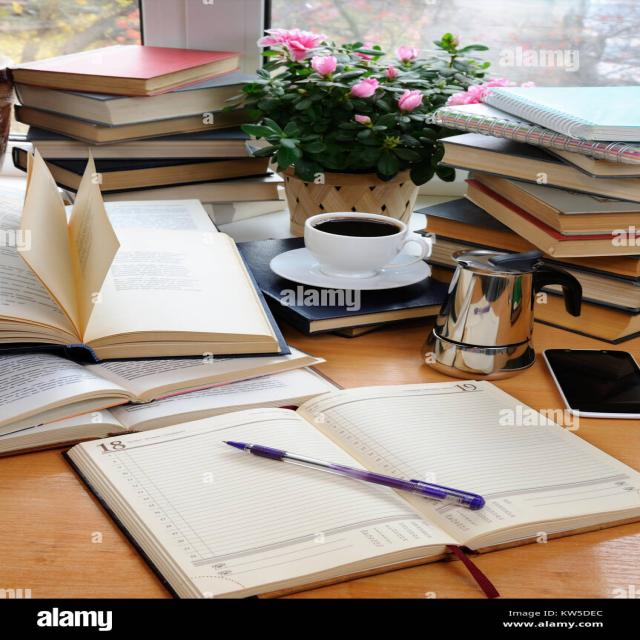book: (40, 369, 517, 593), (0, 111, 312, 443), (477, 156, 623, 246)
mobile: (538, 338, 639, 420)
pen: (228, 440, 488, 510)
